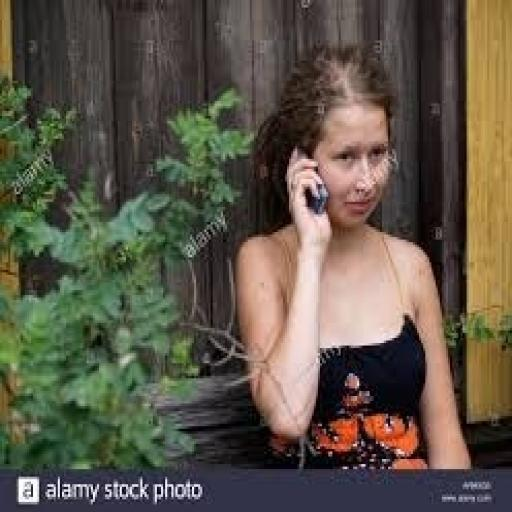calling: (231, 40, 475, 472)
